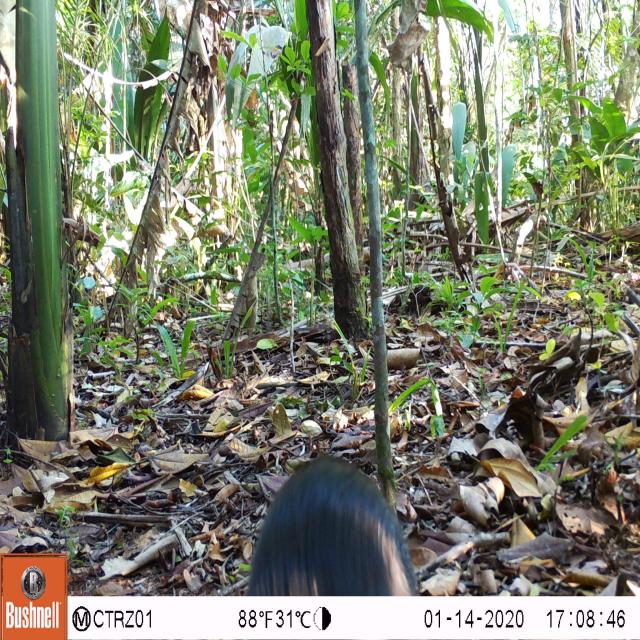Black Agouti: (233, 442, 427, 598)
